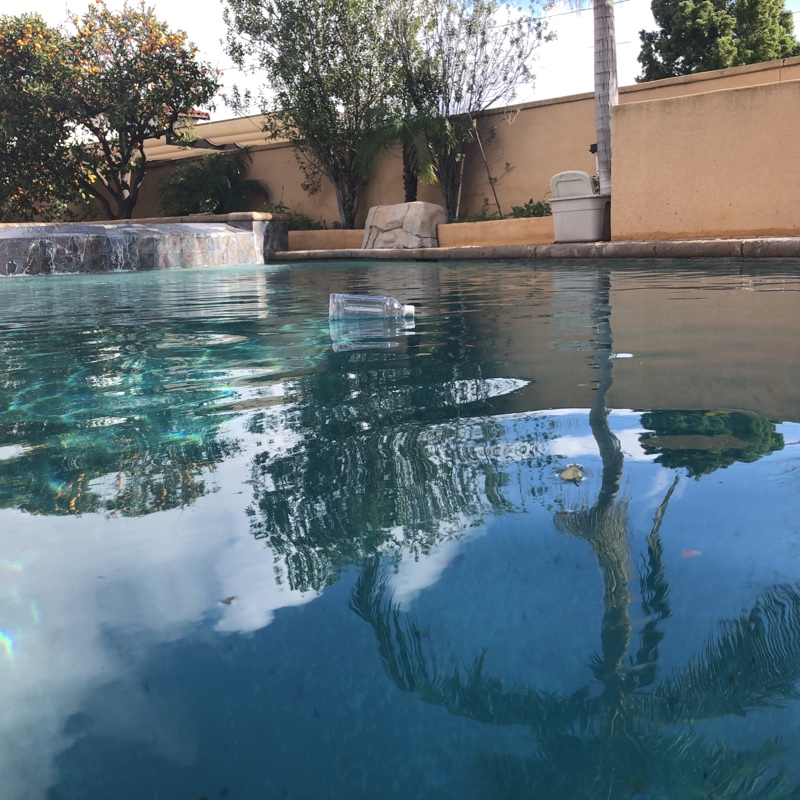Plastic Bottle: (327, 290, 418, 318)
